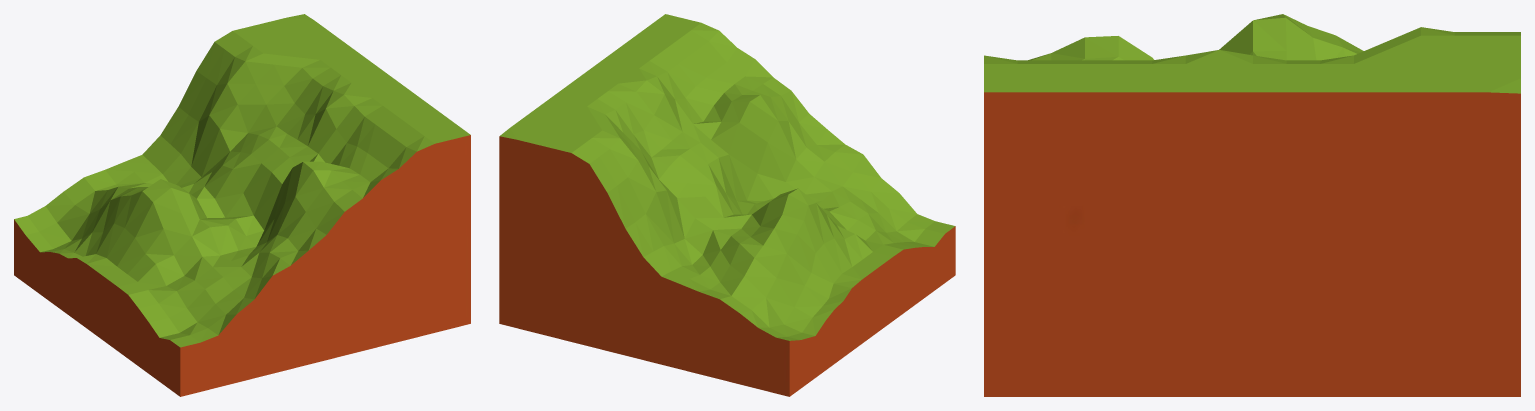
The model's file is CliffTerrain.fbx.
The picture shows the model from 3 angles, left to right: view 1: azimuth 30°, elevation 25°; view 2: azimuth 150°, elevation 25°; view 3: azimuth 270°, elevation 25°; orthographic projection. The views are drawn at different scales.
Parts seen in each view (by area): view 1: Cliff; view 2: Cliff; view 3: Cliff.
Part boxes in pixels (bbox=[...]): Cliff: bbox=[14, 14, 470, 396]; Cliff: bbox=[499, 14, 955, 396]; Cliff: bbox=[984, 14, 1520, 396].
Bounding box in the file's own units: 201 × 127 × 200.
